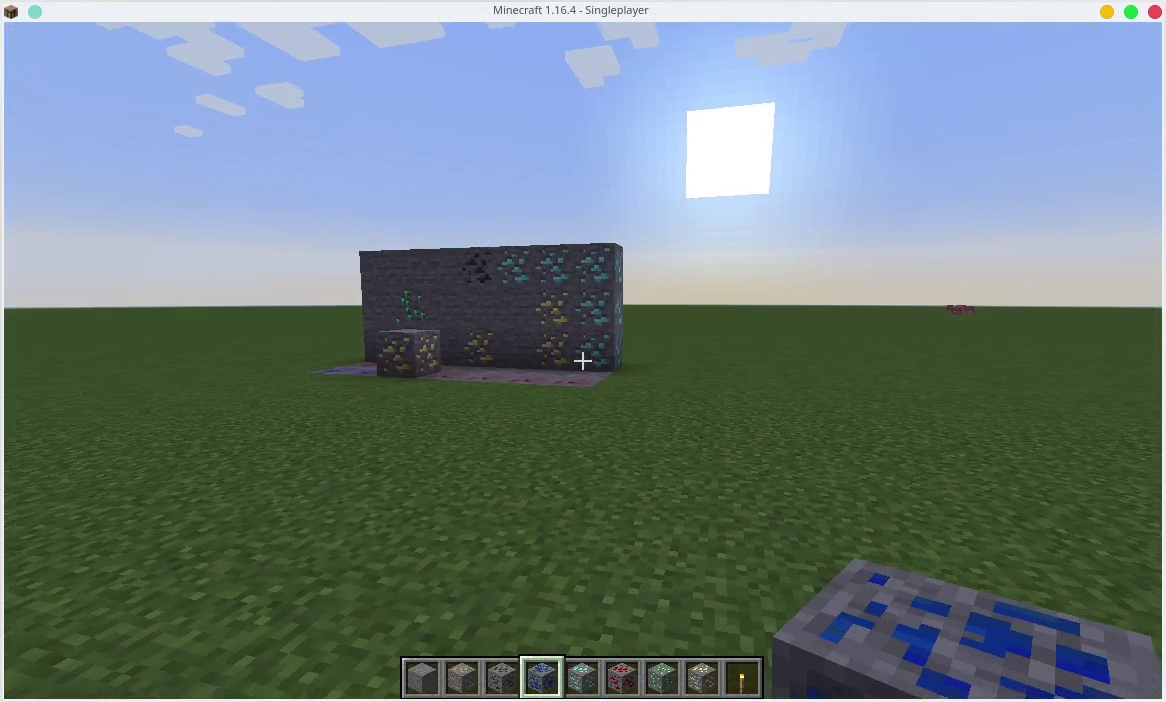gold: (378, 331, 427, 367), (533, 291, 568, 329), (459, 330, 496, 365), (533, 334, 569, 364), (687, 662, 715, 692)
